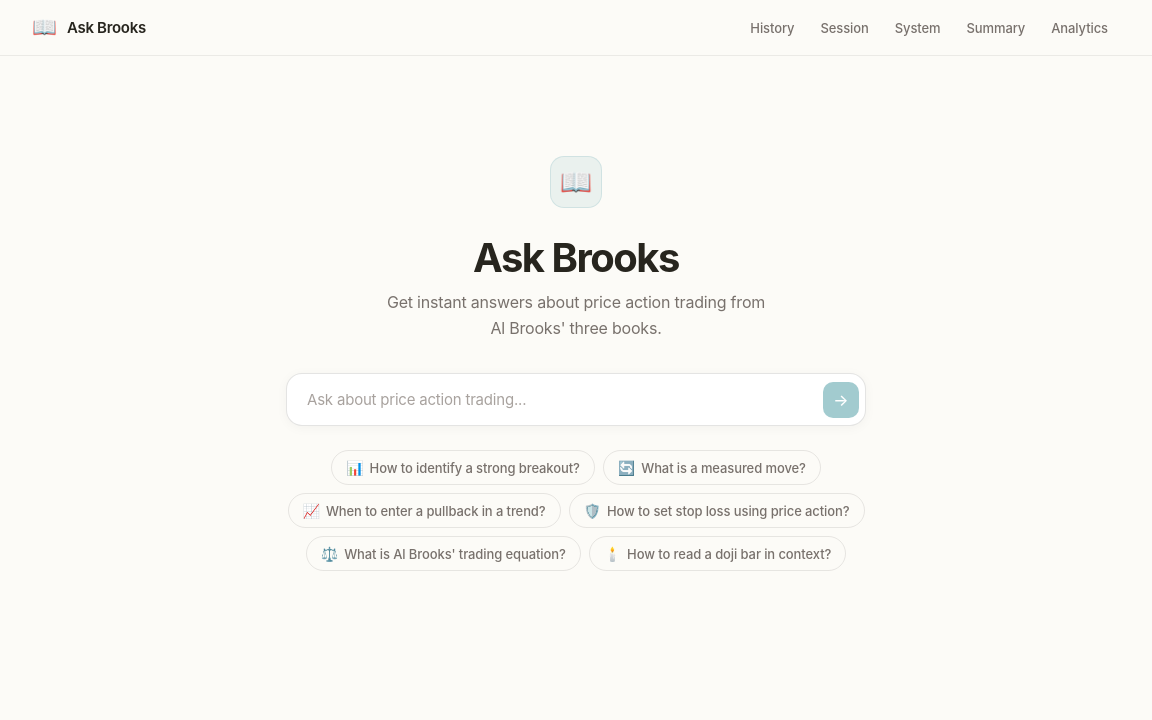
AskBrooksPage › opens history panel when History button clicked
Click the button "History": (772, 28) left=738, top=14, right=806, bottom=42
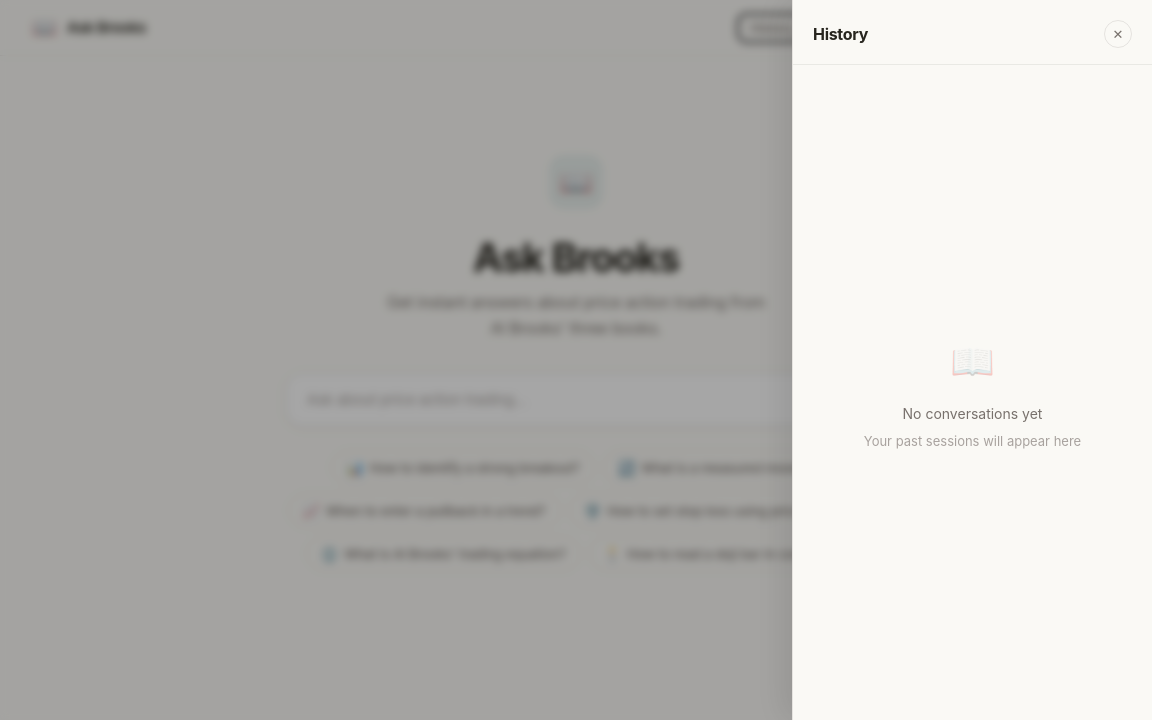
Expected: the text "No conversations yet" is shown, left=902, top=404, right=1042, bottom=425
